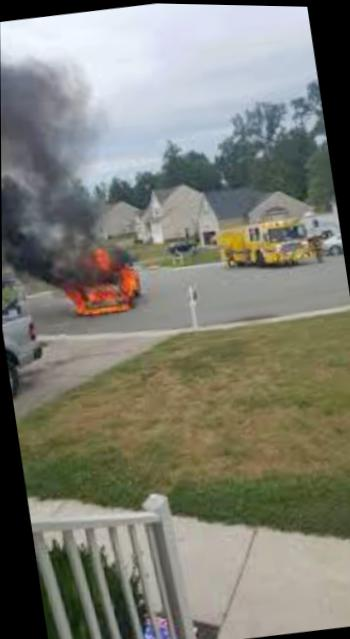fire: (45, 236, 154, 331)
